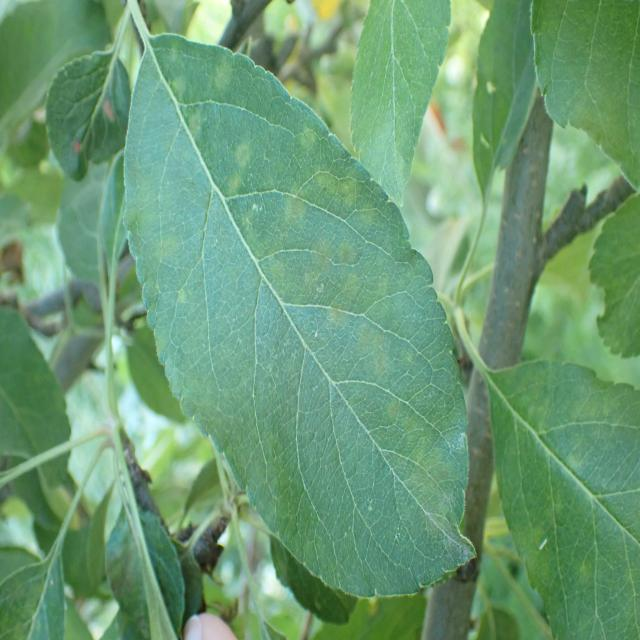scab: (148, 43, 468, 598), (518, 348, 626, 640)
